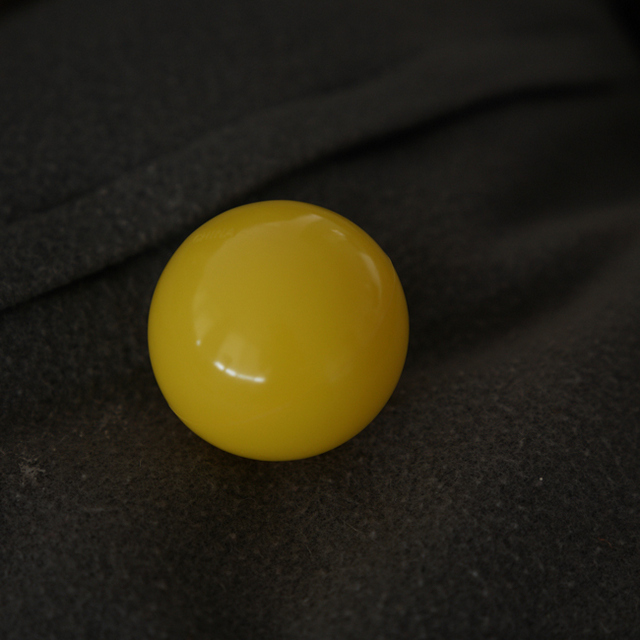Ball: (141, 203, 409, 458)
